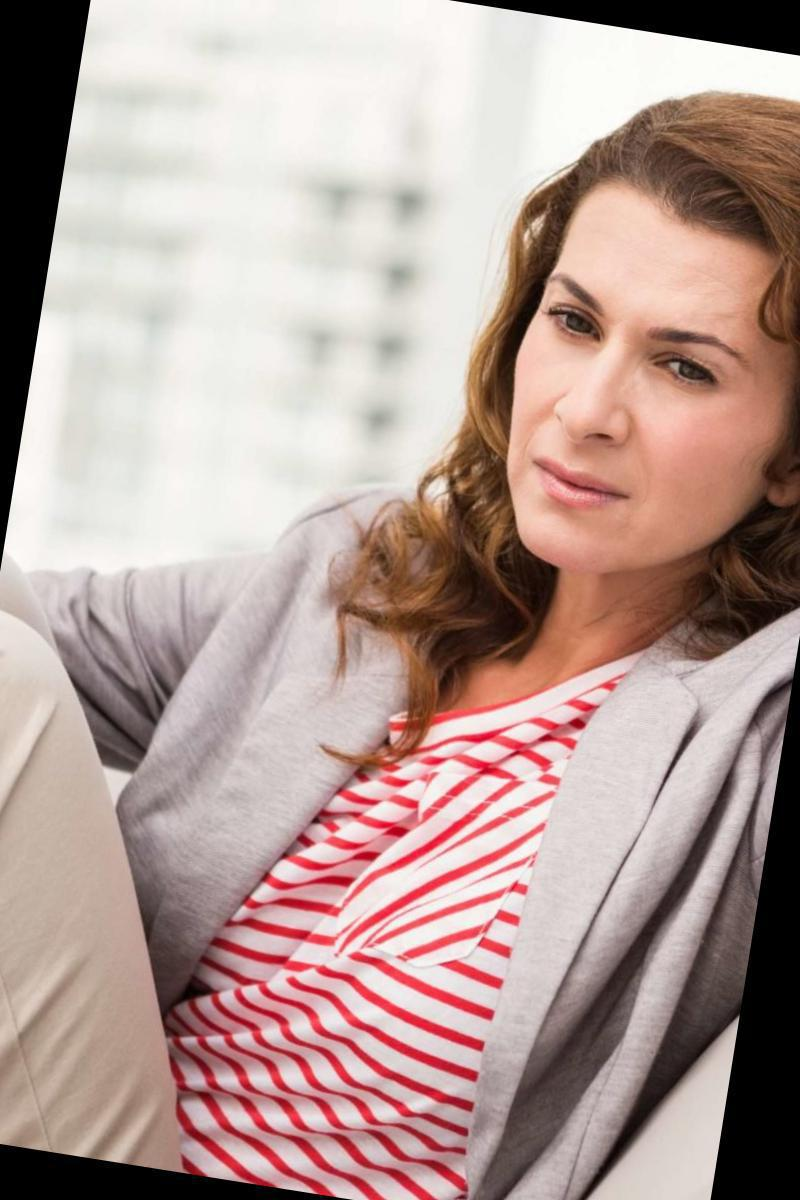Sober: (503, 203, 770, 550)
